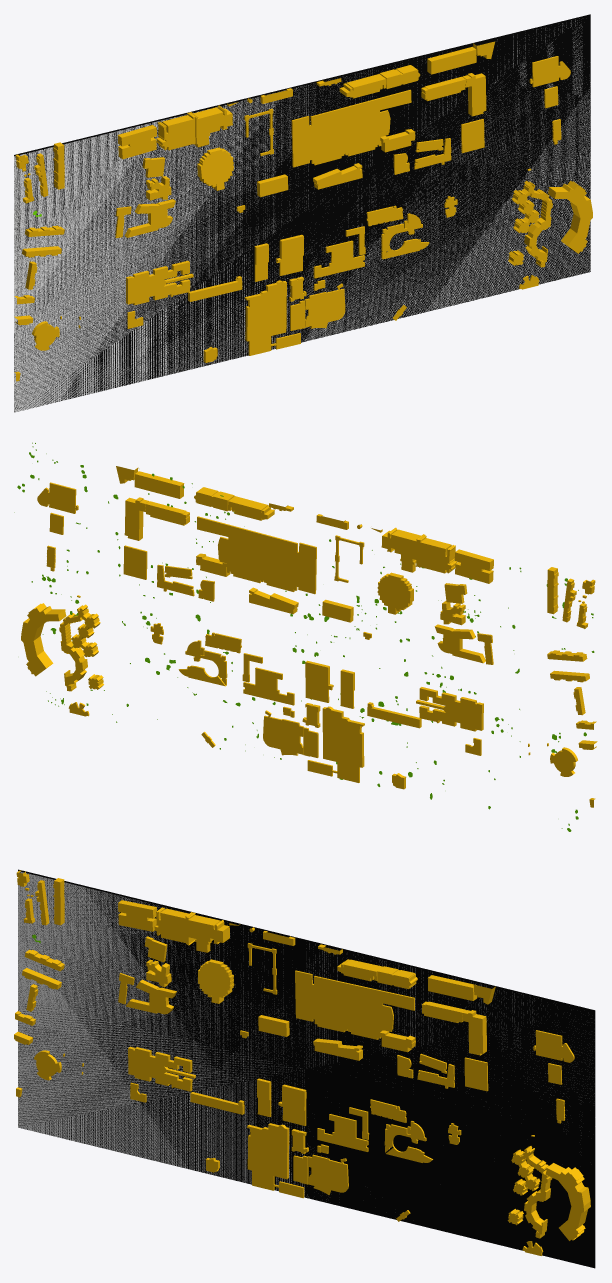
File: existing_trees_02.glb
3 views of the same model, one above another, from view 1: azimuth 30°, elevation 25°; view 2: azimuth 150°, elevation 25°; view 3: azimuth 330°, elevation 25° (orthographic).
Visible parts, largest first — view 1: Layer 04, base, existing_building - Copy; view 2: existing_building - Copy, treesurface; view 3: Layer 04, existing_building - Copy, base.
Boxes of the visible parts, bbox=[...] form: Layer 04: bbox=[14, 14, 590, 411]; base: bbox=[14, 18, 590, 412]; existing_building - Copy: bbox=[14, 41, 592, 381]; existing_building - Copy: bbox=[21, 466, 597, 807]; treesurface: bbox=[14, 442, 594, 831]; Layer 04: bbox=[18, 869, 595, 1268]; existing_building - Copy: bbox=[14, 870, 590, 1255]; base: bbox=[18, 871, 594, 1201].
Size of the model in its own units: 1000 by 431 by 20.85.
